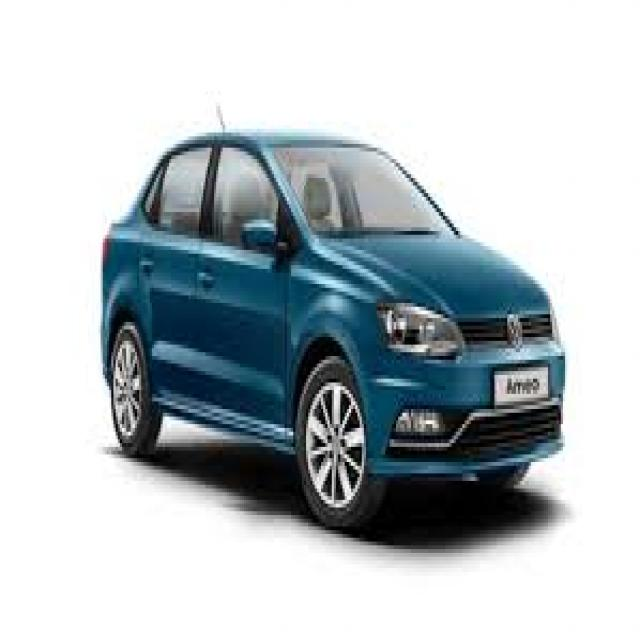car: (80, 95, 570, 538)
